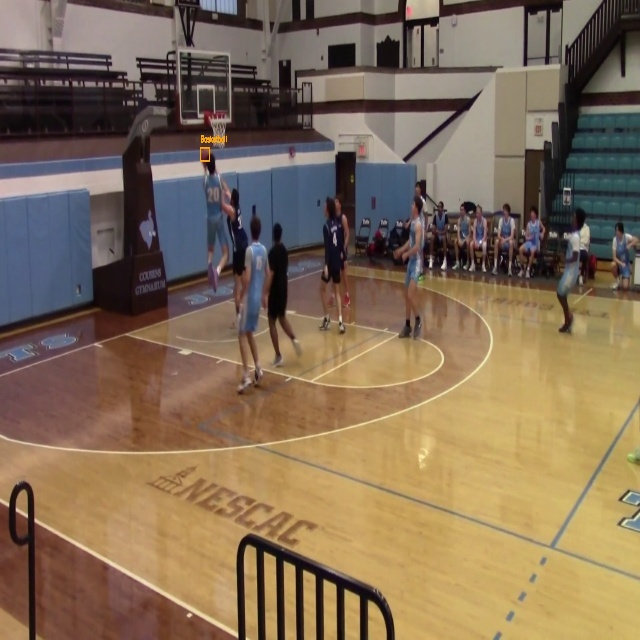Basketball: (201, 148, 210, 161)
